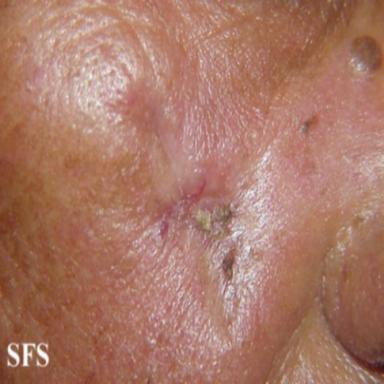basal-cell-carcinoma: (191, 197, 236, 282)
